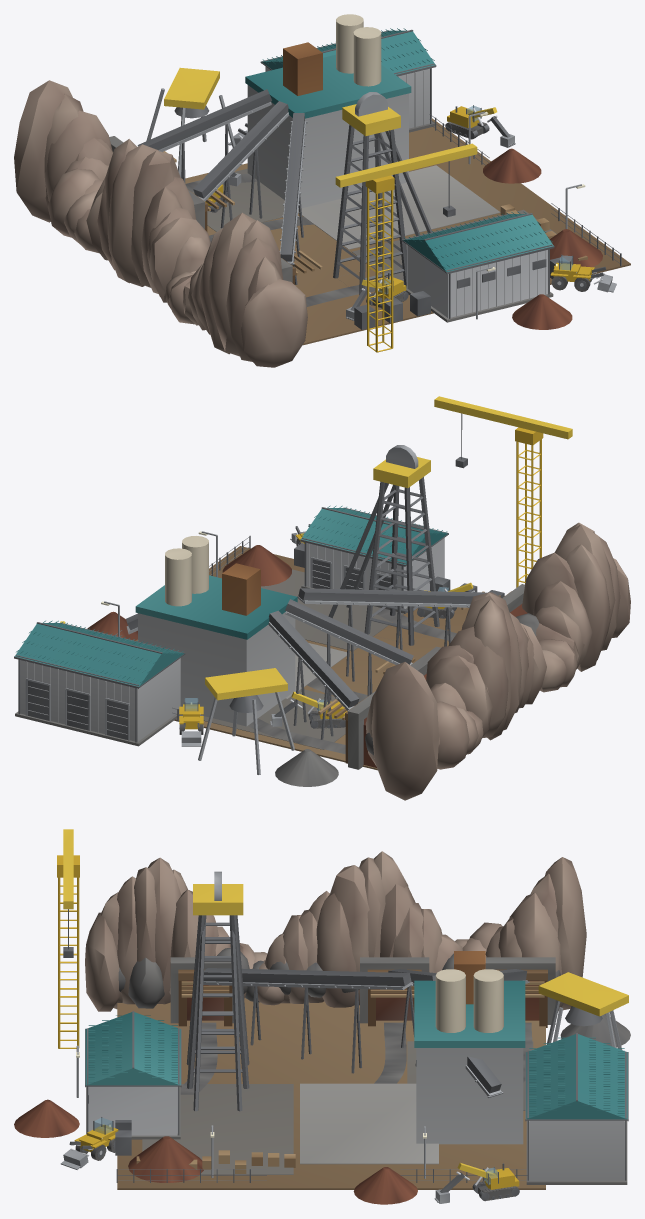
File: Mine_P3.fbx
The picture shows the model from 3 angles, top to bottom: view 1: azimuth 30°, elevation 25°; view 2: azimuth 150°, elevation 25°; view 3: azimuth 270°, elevation 25°; orthographic projection. The views are drawn at different scales.
Parts seen in each view (by area): view 1: Mine.Cliff, Mine.Apron, Mine.Plant, Mine.Winder, Mine.Headframe, Mine.Crane, Mine.Crusher, Mine.Conv1, Mine.LoadGantry, Mine.Conv0, Mine.Conv2, Mine.Clutter (+10 smaller); view 2: Mine.Cliff, Mine.Plant, Mine.Crusher, Mine.Apron, Mine.Headframe, Mine.Winder, Mine.Crane, Mine.Conv0, Mine.LoadGantry, Mine.Conv2, Mine.Conv1, Mine.Adit2 (+8 smaller); view 3: Mine.Apron, Mine.Cliff, Mine.Plant, Mine.Crusher, Mine.Winder, Mine.Headframe, Mine.Conv0, Mine.LoadGantry, Mine.Crane, Mine.Adit0, Mine.Adit1, Mine.Spoil0 (+12 smaller).
Part boxes in pixels (x1,y1,x2,y2): Mine.Cliff: (14, 80, 307, 367); Mine.Apron: (185, 118, 630, 345); Mine.Plant: (245, 14, 411, 208); Mine.Winder: (402, 211, 554, 322); Mine.Headframe: (333, 92, 432, 294); Mine.Crane: (335, 143, 477, 352); Mine.Crusher: (260, 28, 436, 132); Mine.Conv1: (193, 101, 289, 228); Mine.LoadGantry: (146, 67, 240, 177); Mine.Conv0: (279, 113, 307, 284); Mine.Conv2: (137, 89, 271, 191); Mine.Clutter: (354, 204, 587, 329); Mine.Cliff: (365, 522, 630, 800); Mine.Plant: (135, 536, 297, 726); Mine.Crusher: (14, 620, 185, 746); Mine.Apron: (136, 546, 469, 770); Mine.Headframe: (328, 445, 439, 645); Mine.Winder: (300, 505, 448, 613); Mine.Crane: (434, 396, 572, 587); Mine.Conv0: (297, 588, 499, 681); Mine.LoadGantry: (198, 668, 294, 774); Mine.Conv2: (268, 610, 359, 739); Mine.Conv1: (285, 599, 413, 701); Mine.Adit2: (318, 691, 376, 769); Mine.Apron: (117, 998, 545, 1189); Mine.Cliff: (85, 851, 586, 1011); Mine.Plant: (414, 951, 525, 1144); Mine.Crusher: (525, 1033, 628, 1184); Mine.Winder: (85, 1011, 181, 1139); Mine.Headframe: (186, 871, 249, 1111); Mine.Conv0: (203, 968, 412, 1073); Mine.LoadGantry: (538, 972, 628, 1049); Mine.Crane: (57, 829, 79, 1048); Mine.Adit0: (170, 957, 233, 1026); Mine.Adit1: (360, 957, 429, 1026); Mine.Spoil0: (128, 1136, 203, 1182).
Bounding box in the file's own units: 8724 × 3898 × 9783.
